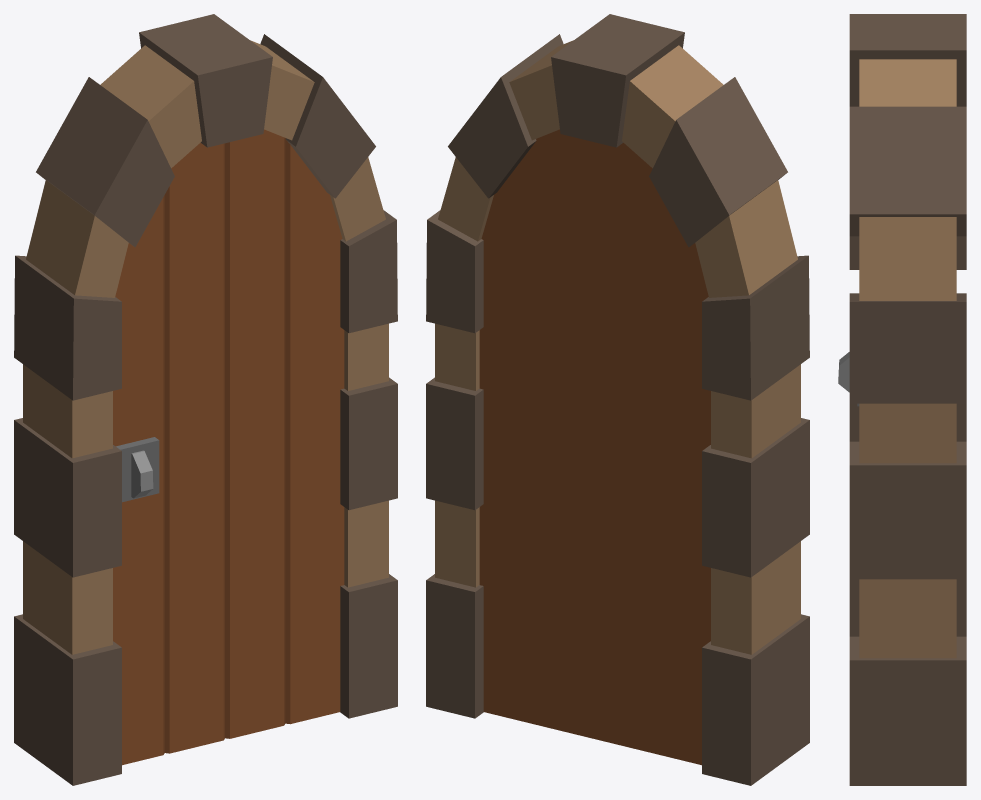
The model's file is v02_door_2.fbx.
The picture shows the model from 3 angles, left to right: view 1: azimuth 30°, elevation 25°; view 2: azimuth 150°, elevation 25°; view 3: azimuth 270°, elevation 25°; orthographic projection.
Parts seen in each view (by area): view 1: 立方体.021; view 2: 立方体.021; view 3: 立方体.021.
Boxes of the visible parts, box(x1,y1,x2,y2) form: 立方体.021: box(14, 14, 397, 785); 立方体.021: box(426, 14, 809, 785); 立方体.021: box(838, 14, 966, 785).
Bounding box in the file's own units: 200 × 400 × 68.79.
